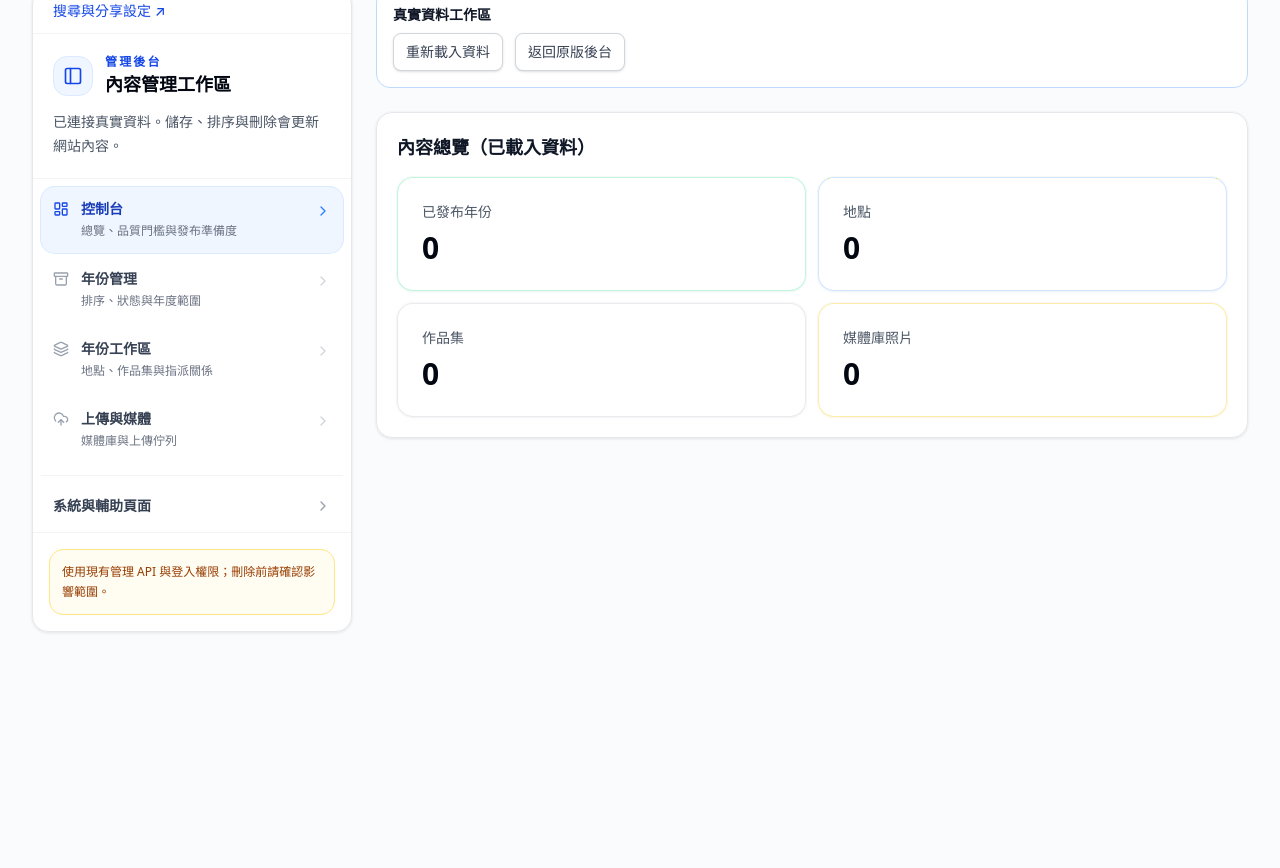
Test: failed removal stays retryable and cancelling restores the confirmed photo list
expect the text "真實資料工作區" is shown: met, box [393, 5, 491, 24]
Click the button "年份工作區 地點、作品集與指派關係" at (192,360), box [41, 327, 343, 393]
(page scrolled)
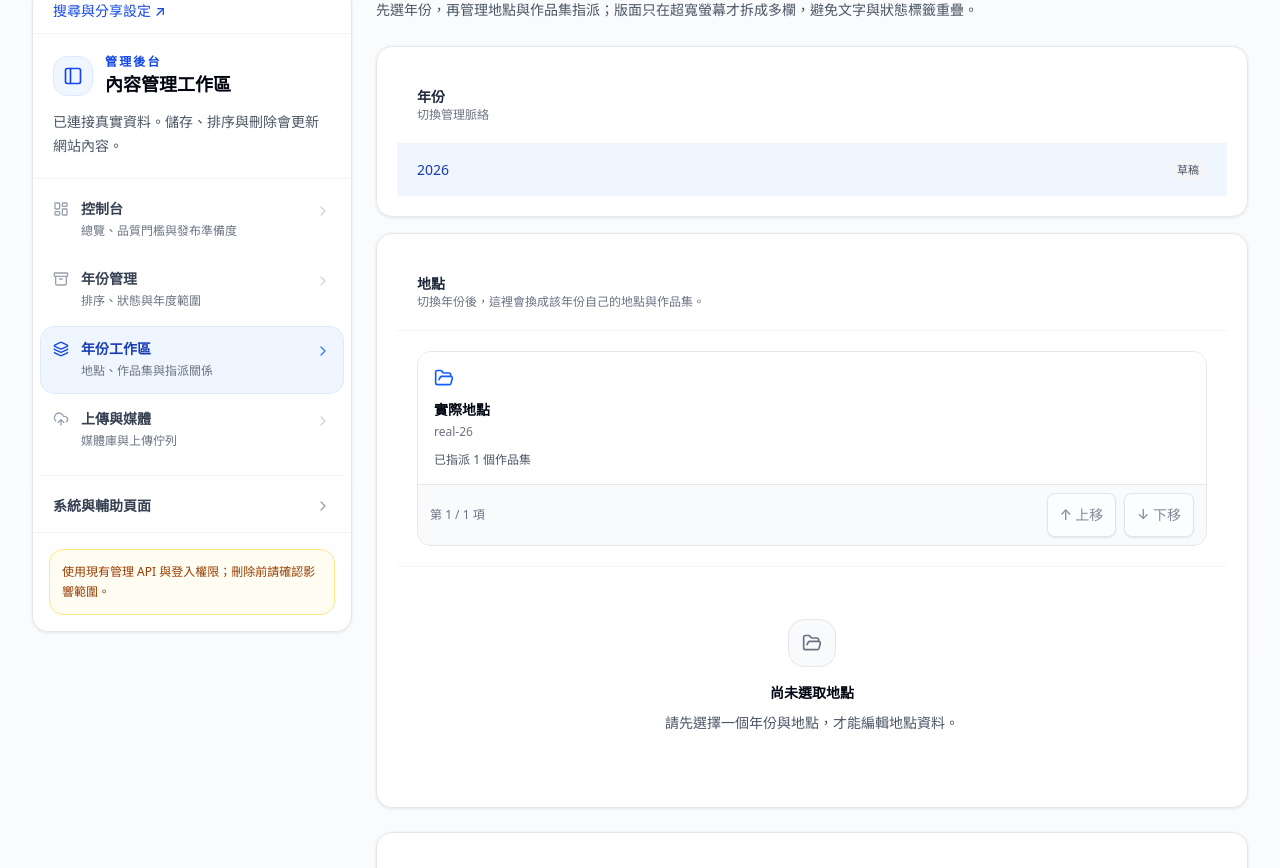
Click the button "實際地點 real-26 已指派 1 個作品集" at (462,410), box [418, 352, 1206, 484]
(page scrolled)
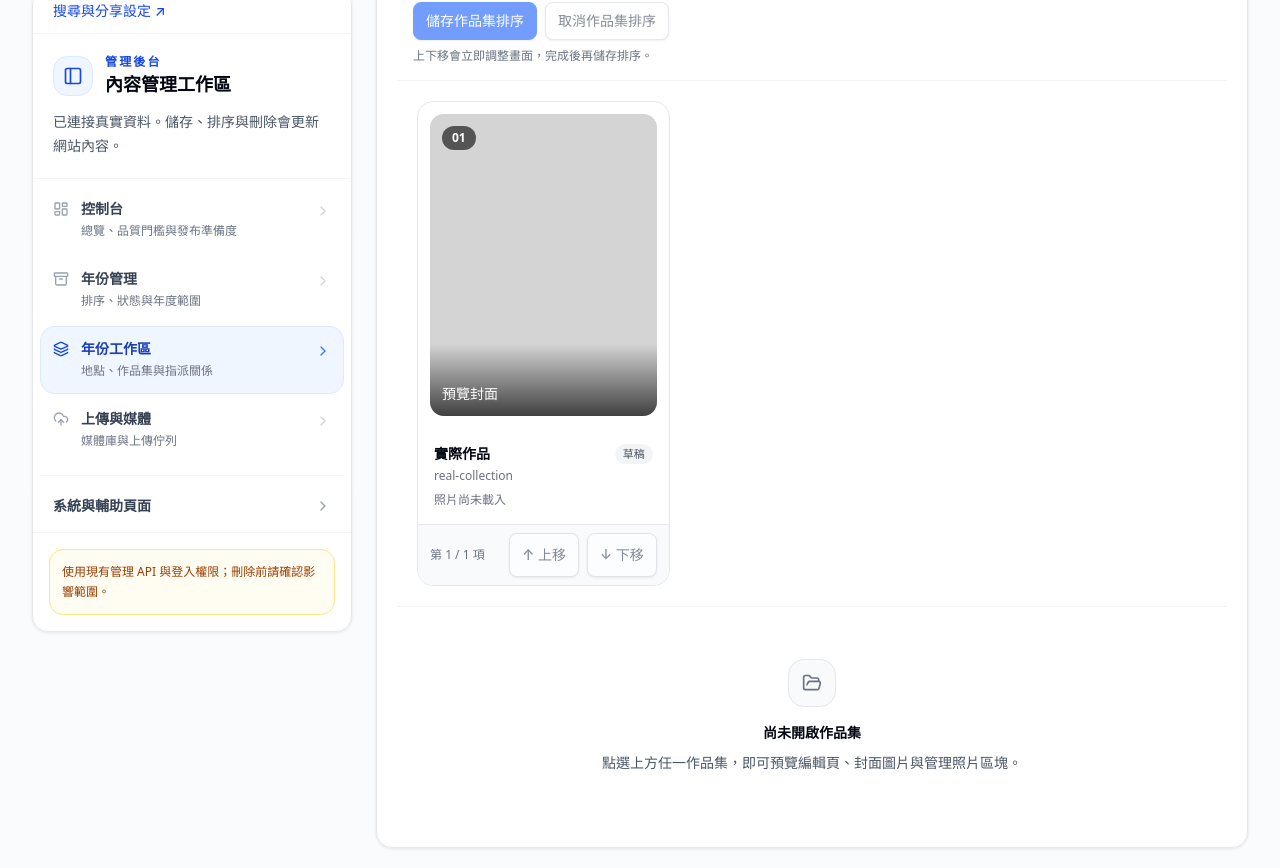
Click the button "實際作品 草稿 real-collection 照片尚未載入" at (543,476), box [418, 428, 669, 524]
(page scrolled)
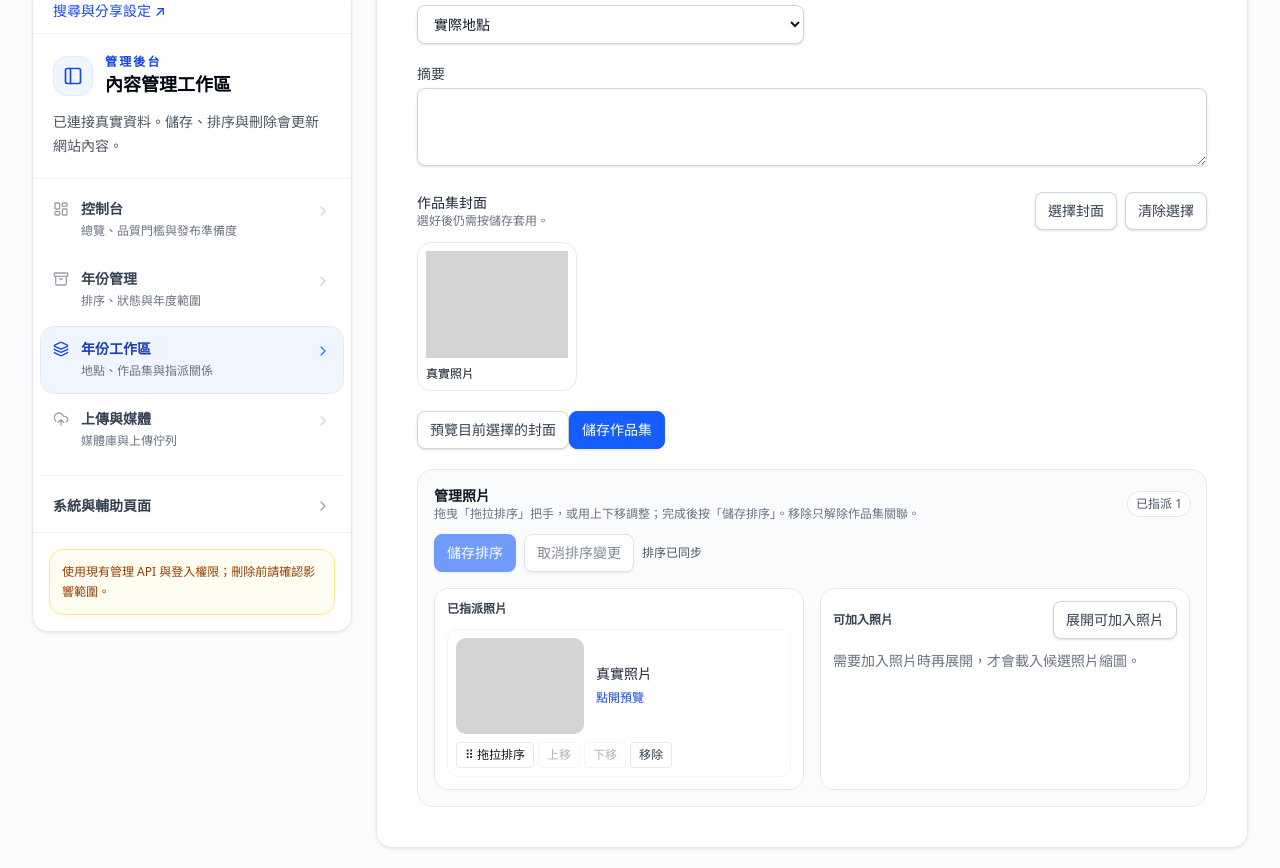
Click the button "移除" at (651,755), box [630, 742, 672, 768]
(page scrolled)
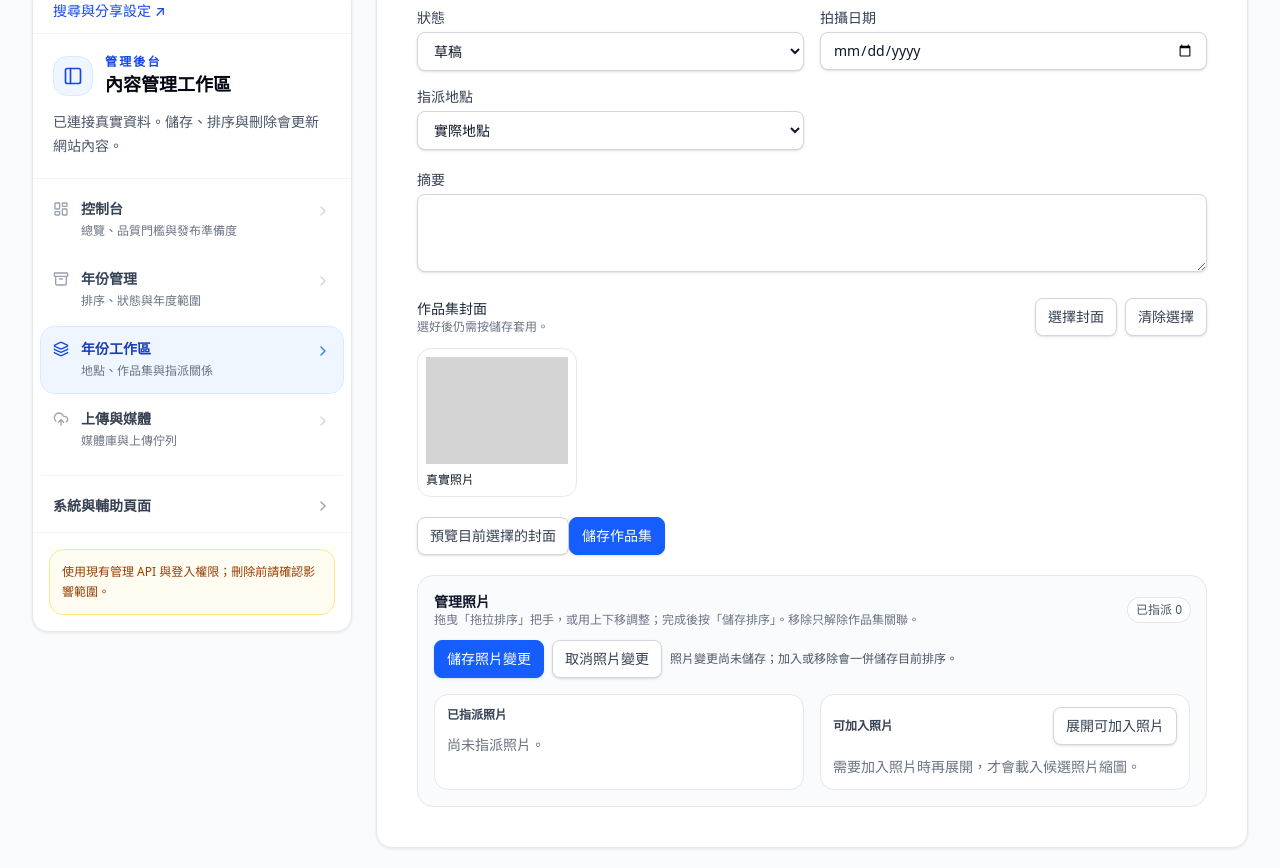
expect the button "儲存照片變更" is enabled: met, box [434, 640, 544, 678]
Click the button "取消照片變更" at (607,659), box [552, 640, 662, 678]
(page scrolled)
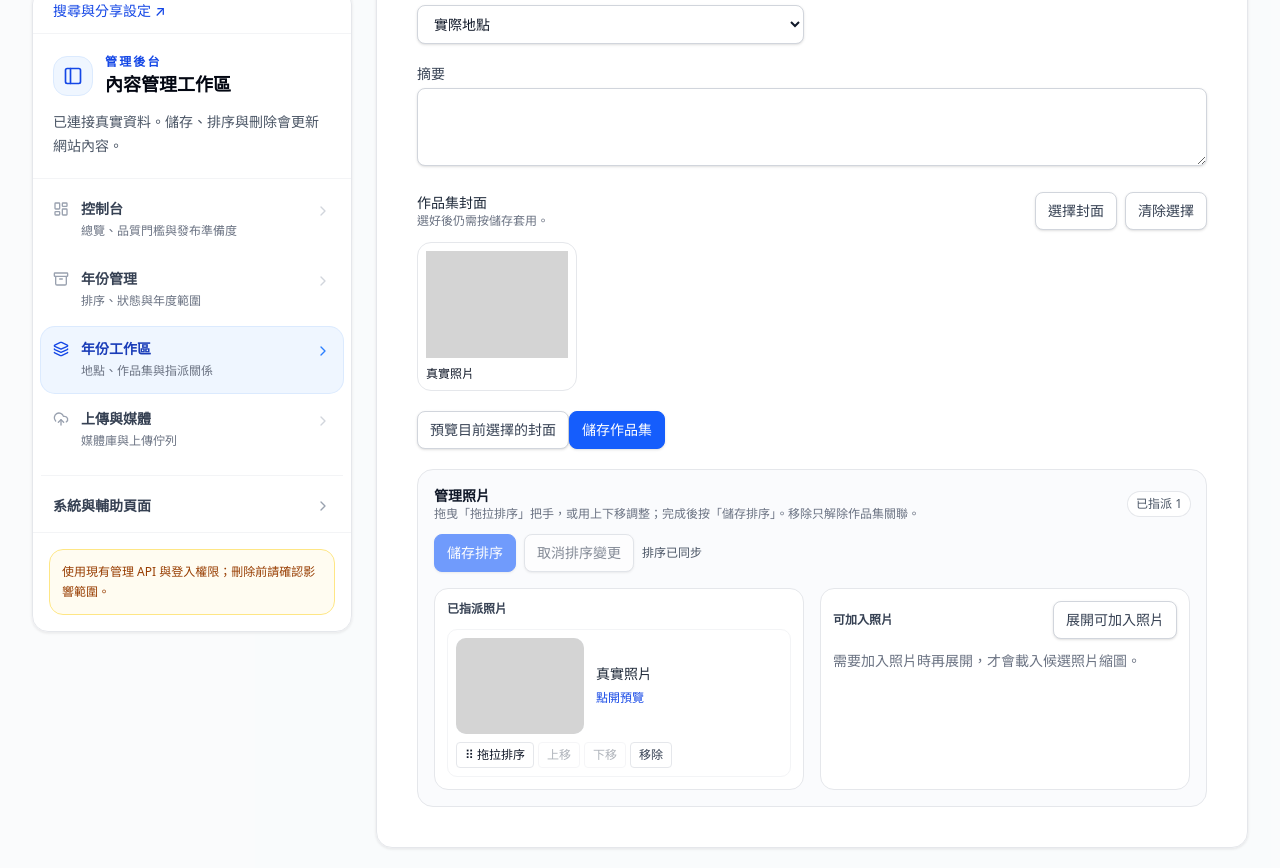
expect the element with test id "assigned-photo-a1" is shown: met, box [447, 629, 791, 777]
